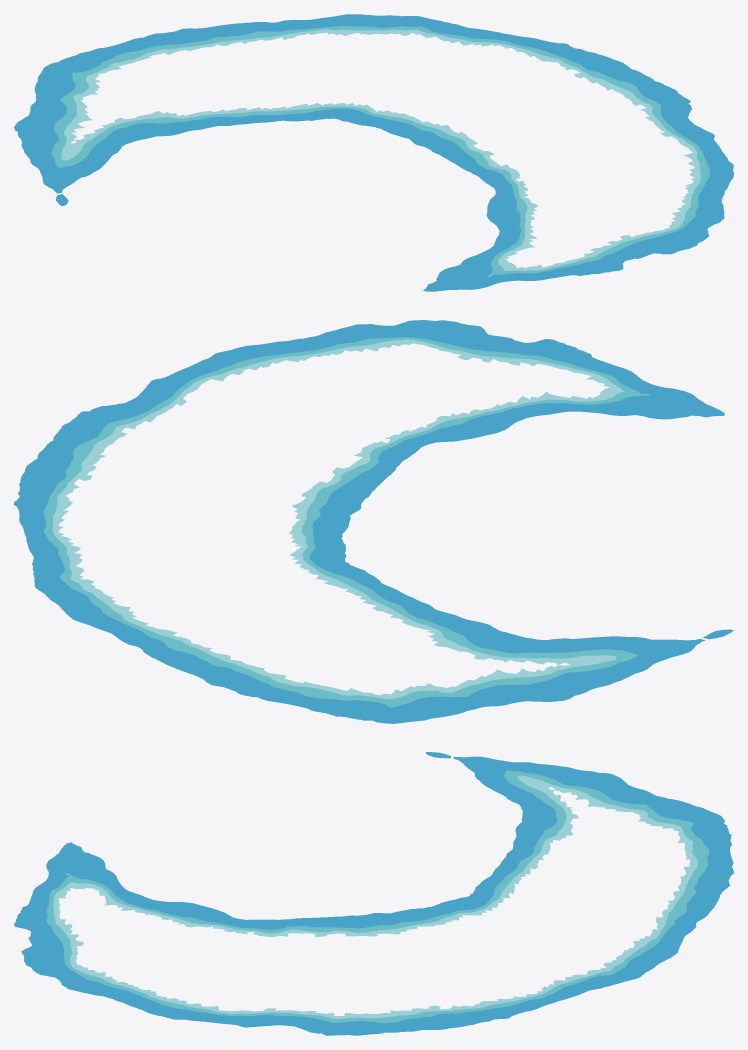
Rendered from Isl-crescent3-Water.fbx.
The picture shows the model from 3 angles, top to bottom: view 1: azimuth 30°, elevation 25°; view 2: azimuth 150°, elevation 25°; view 3: azimuth 270°, elevation 25°; orthographic projection. The views are drawn at different scales.
Visible parts, largest first — view 1: Isl-crescent3-Water; view 2: Isl-crescent3-Water; view 3: Isl-crescent3-Water.
Part boxes in pixels (x1,y1,x2,y2): Isl-crescent3-Water: (14,14,733,291); Isl-crescent3-Water: (14,320,733,723); Isl-crescent3-Water: (14,752,733,1035).
Size of the model in its own units: 118 by 0 by 127.
